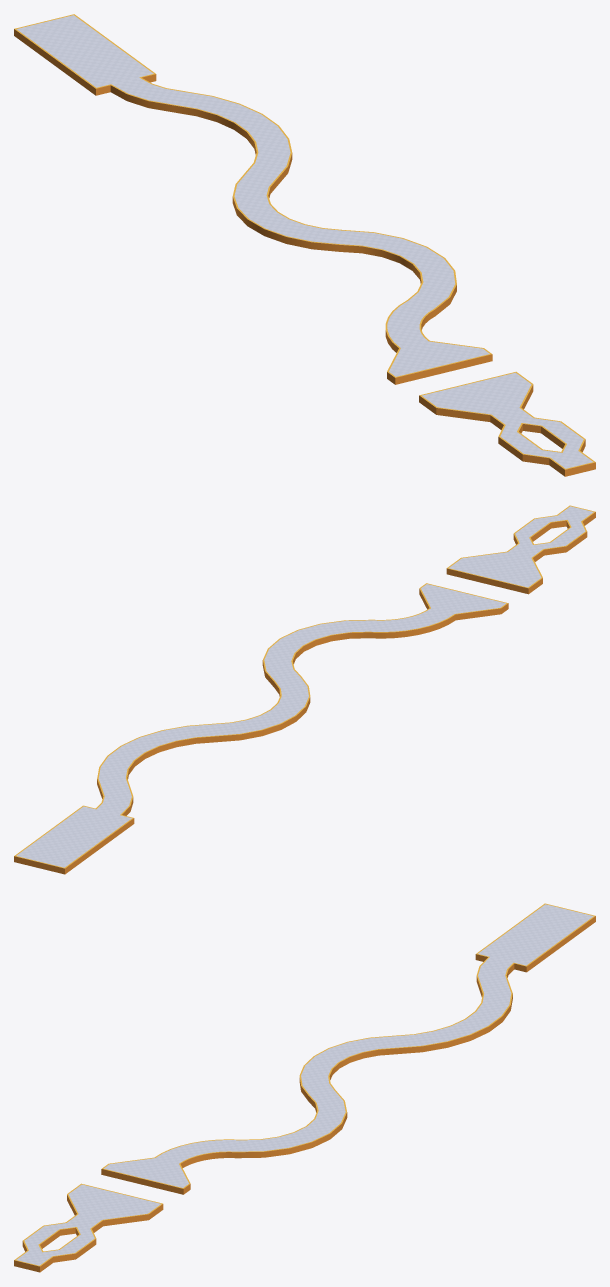
File: 1st location.fbx
3 views of the same model, one above another, from view 1: azimuth 30°, elevation 25°; view 2: azimuth 150°, elevation 25°; view 3: azimuth 330°, elevation 25° (orthographic). The views are drawn at different scales.
Visible parts, largest first — view 1: Plane.003, Plane.002, Plane.004, 1st location; view 2: Plane.003, Plane.002, Plane.004, 1st location; view 3: Plane.003, Plane.002, Plane.004, 1st location.
Part boxes in pixels (box(x1,y1,x2,y2)): Plane.003: box(110, 77, 456, 352); Plane.002: box(387, 341, 533, 421); Plane.004: box(14, 14, 156, 95); 1st location: box(490, 407, 595, 476); Plane.003: box(96, 608, 455, 815); Plane.002: box(419, 551, 542, 620); Plane.004: box(14, 805, 134, 874); 1st location: box(507, 505, 595, 561); Plane.003: box(154, 957, 514, 1167); Plane.002: box(67, 1157, 190, 1226); Plane.004: box(475, 903, 595, 972); 1st location: box(14, 1214, 103, 1272).
Bounding box in the file's own units: 18278 × 715 × 108962.
